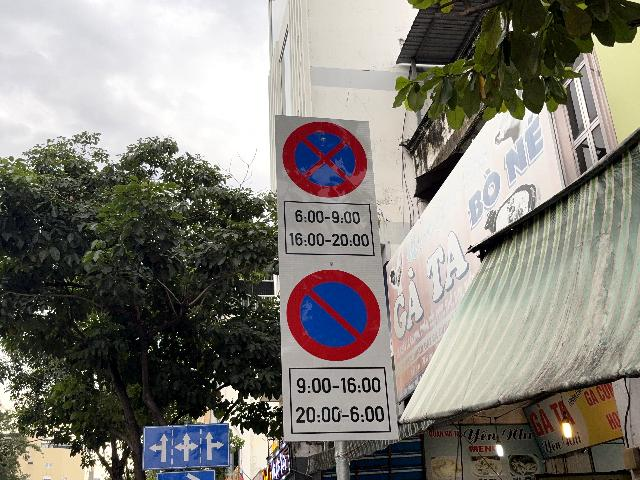cam-do-xe: (287, 269, 380, 361)
cam-dung-va-do-xe: (281, 120, 368, 197)
